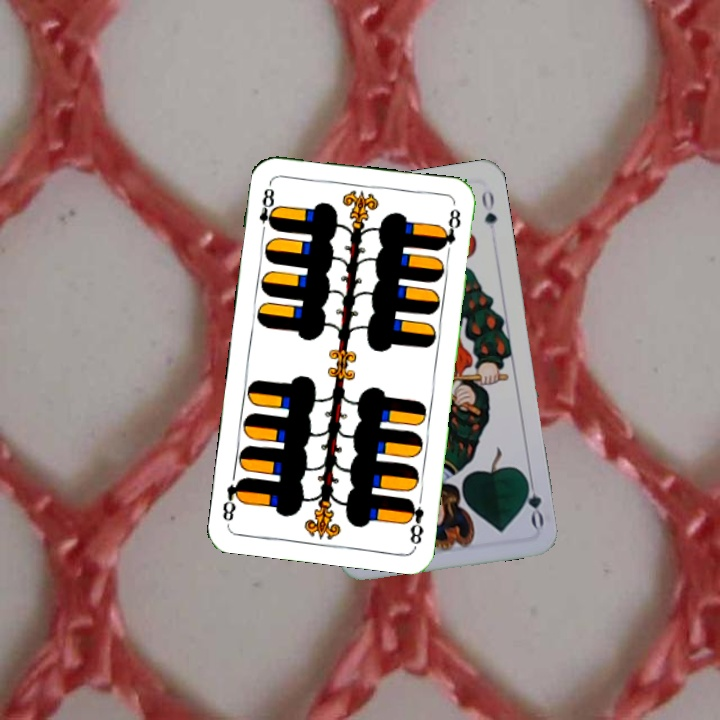E8: (255, 179, 280, 238), (402, 494, 427, 549)
GO: (520, 470, 547, 530)
